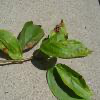Apple Scab Leaf: (40, 34, 95, 65), (55, 60, 94, 99), (0, 28, 23, 67), (20, 20, 44, 57)
